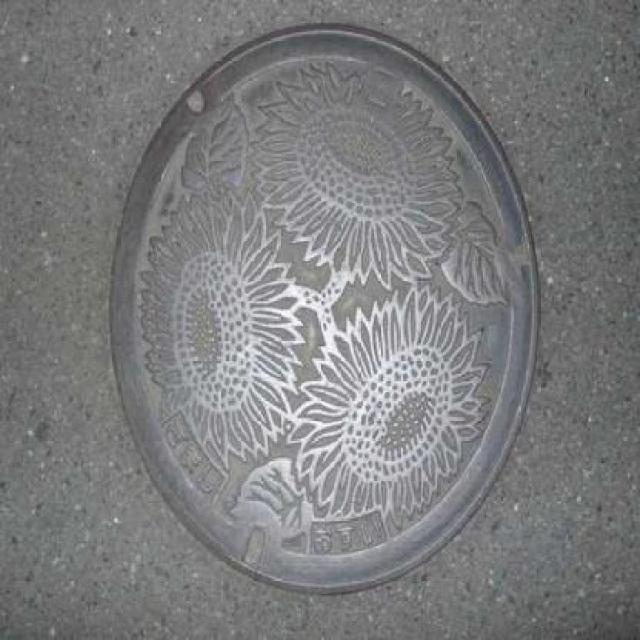Manhole: (96, 14, 552, 608)
